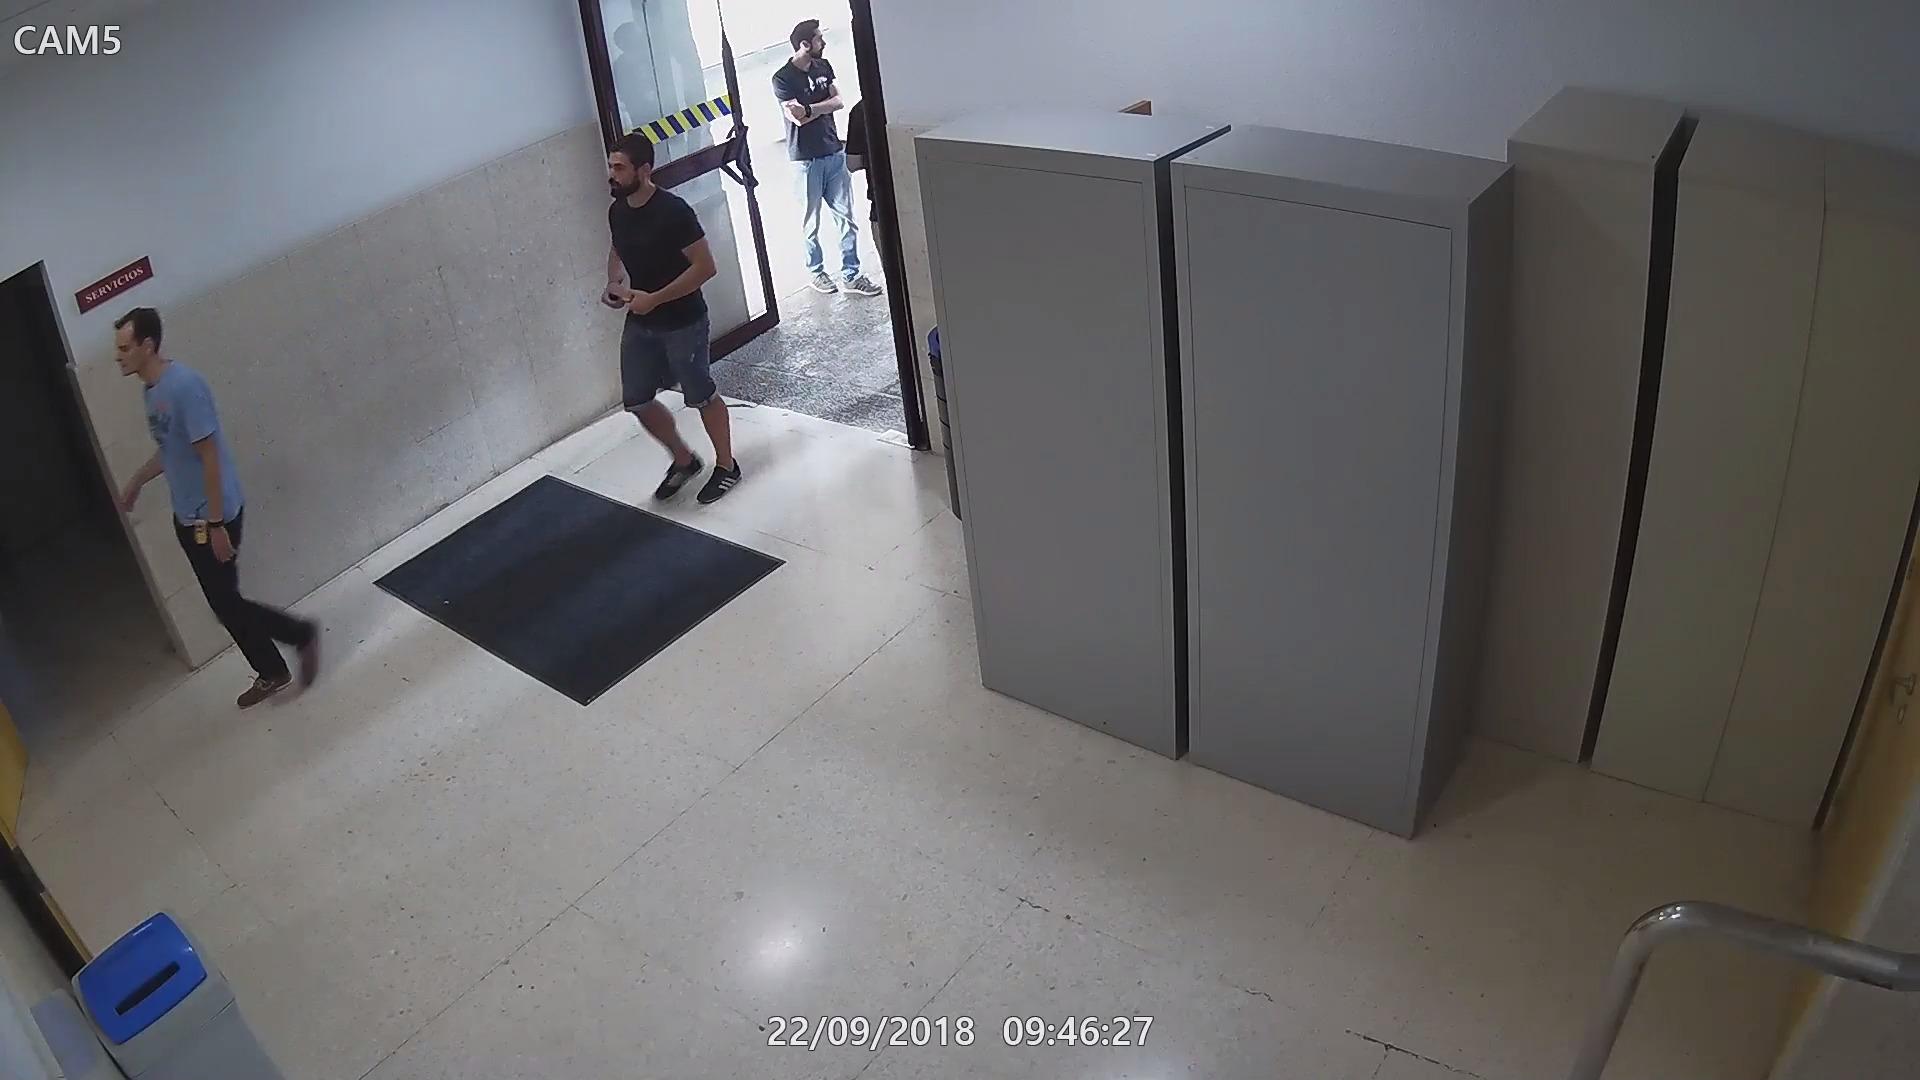Handgun: (604, 284, 641, 310)
